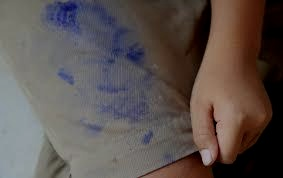ink: (86, 9, 150, 122), (42, 3, 81, 31), (57, 69, 75, 87), (83, 125, 103, 135), (145, 132, 153, 143)
